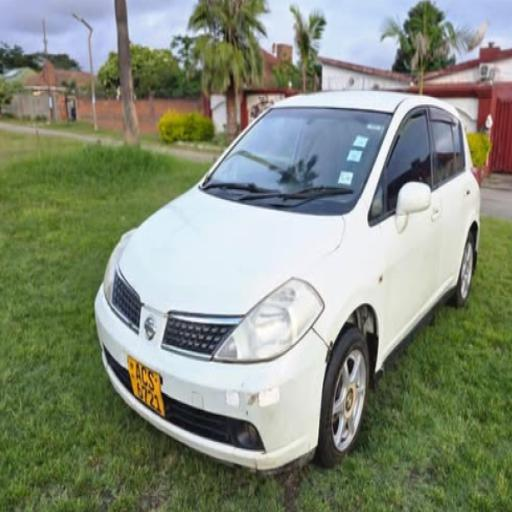number-plates: (125, 349, 166, 421)
